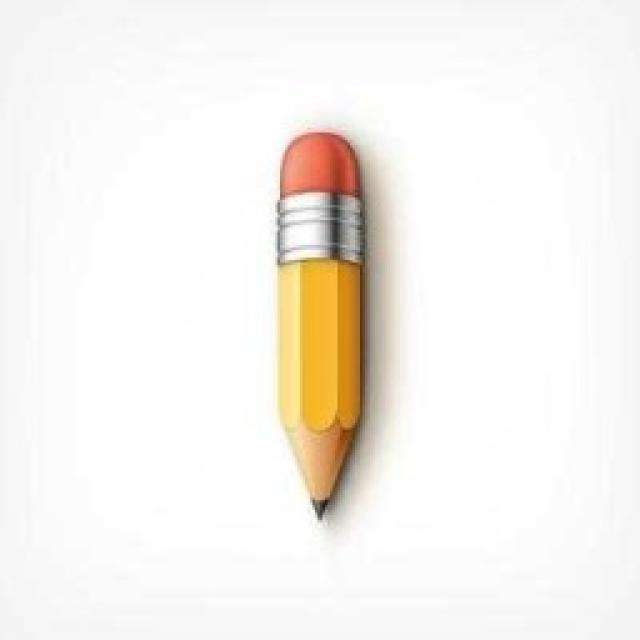pencil: (270, 128, 370, 520)
